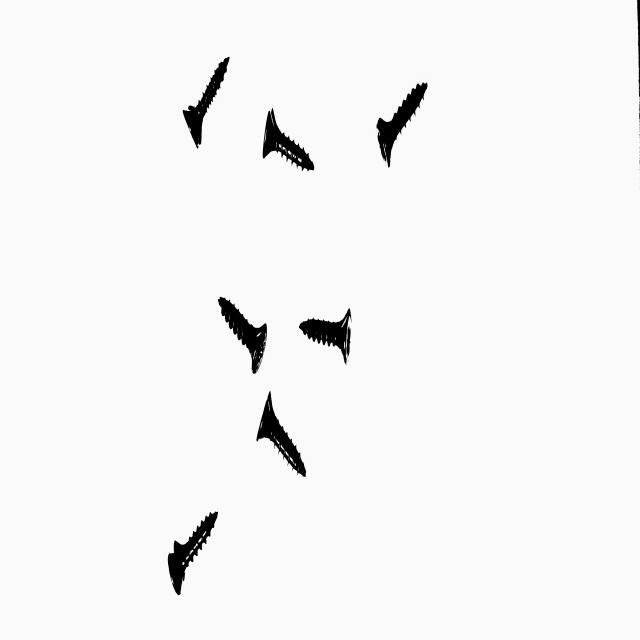Screw: (377, 80, 428, 166), (183, 54, 229, 146), (167, 511, 217, 595), (257, 391, 306, 476), (218, 296, 267, 373), (262, 107, 314, 169), (299, 307, 352, 363)
